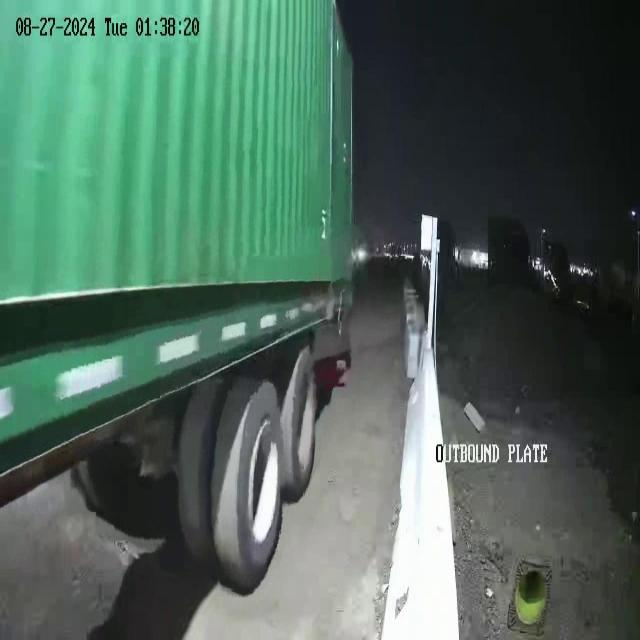TRUCK_OUT: (1, 1, 357, 595)
